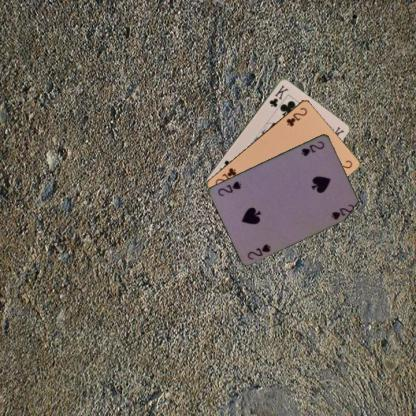2c: (284, 104, 308, 128)
2s: (245, 241, 272, 261), (299, 138, 326, 157)
Kc: (266, 83, 290, 108)
